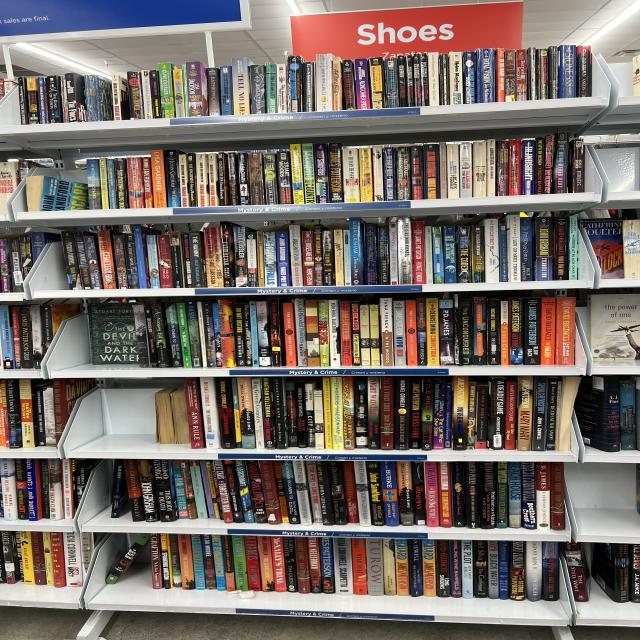book: (161, 65, 235, 117), (301, 461, 360, 524), (46, 454, 93, 521), (21, 381, 43, 521), (0, 305, 39, 369), (591, 543, 629, 603), (560, 539, 595, 604), (0, 381, 33, 447), (187, 459, 222, 521), (223, 227, 259, 286), (592, 544, 628, 602), (152, 150, 187, 207), (351, 378, 378, 448), (475, 384, 504, 448), (306, 378, 332, 449), (188, 460, 219, 519), (150, 458, 178, 523), (121, 458, 147, 522), (164, 232, 192, 288), (430, 226, 457, 284), (183, 378, 205, 449), (59, 230, 85, 290), (170, 302, 193, 369), (259, 461, 283, 525), (200, 377, 221, 449), (444, 227, 471, 283), (215, 378, 236, 449), (137, 459, 160, 523), (394, 462, 417, 526), (236, 377, 256, 449), (222, 459, 244, 524), (291, 460, 313, 525), (462, 461, 483, 529), (312, 378, 332, 449), (327, 461, 349, 525), (217, 299, 237, 368), (488, 378, 507, 450), (213, 459, 234, 524), (234, 460, 255, 524), (555, 298, 575, 365), (184, 301, 204, 368), (533, 217, 554, 280), (247, 461, 268, 524), (13, 307, 34, 369), (270, 377, 288, 449), (53, 180, 90, 215), (185, 61, 208, 117), (365, 462, 385, 526), (517, 376, 534, 451), (205, 304, 225, 367), (380, 461, 399, 527), (325, 142, 345, 203), (231, 302, 249, 367), (165, 303, 183, 368), (329, 377, 345, 450), (531, 377, 547, 450), (63, 532, 84, 587), (152, 304, 170, 368), (316, 462, 334, 526), (63, 74, 87, 122), (452, 377, 468, 449), (419, 378, 435, 450), (97, 229, 116, 289), (349, 538, 369, 595), (258, 535, 278, 592), (0, 458, 18, 521), (292, 539, 313, 593), (523, 299, 540, 365), (201, 302, 218, 368), (517, 216, 534, 282), (274, 151, 295, 204), (479, 463, 496, 528), (317, 539, 337, 594), (394, 377, 409, 450), (423, 463, 440, 527), (304, 299, 320, 367), (314, 54, 333, 111), (243, 535, 262, 592), (304, 539, 324, 593), (521, 462, 537, 529), (549, 463, 565, 530), (540, 298, 556, 365), (411, 462, 428, 525), (483, 219, 500, 282), (306, 461, 323, 524), (142, 305, 159, 368), (251, 378, 266, 449), (255, 301, 271, 367), (292, 382, 308, 448), (109, 157, 129, 209), (451, 462, 467, 527), (476, 49, 495, 103), (231, 535, 249, 592), (188, 231, 206, 288), (298, 383, 314, 447), (544, 377, 558, 450), (552, 133, 569, 193), (342, 147, 360, 203), (317, 230, 335, 286), (366, 539, 384, 595), (569, 216, 585, 279), (410, 377, 424, 449), (62, 534, 81, 587), (205, 153, 224, 206), (293, 299, 308, 366), (506, 214, 521, 281), (458, 298, 473, 365), (172, 460, 189, 519), (542, 542, 559, 601), (30, 531, 48, 586), (204, 228, 221, 286), (111, 460, 128, 518), (110, 71, 130, 120), (261, 378, 275, 448), (282, 302, 297, 367), (439, 300, 454, 365), (210, 534, 227, 591), (270, 536, 287, 593), (526, 541, 542, 601), (47, 460, 63, 520), (558, 45, 576, 98), (380, 298, 394, 366), (465, 381, 479, 449), (381, 377, 394, 450), (437, 463, 452, 526), (424, 463, 439, 526), (300, 144, 316, 203), (313, 144, 329, 203), (407, 538, 423, 597), (398, 217, 412, 284), (285, 380, 299, 447), (327, 299, 341, 366), (196, 301, 210, 368), (353, 58, 371, 110), (126, 157, 144, 209), (156, 234, 173, 289), (381, 538, 397, 596), (435, 540, 451, 598), (431, 382, 445, 448), (536, 463, 550, 529), (193, 153, 210, 207), (408, 145, 425, 199), (368, 58, 386, 109), (472, 541, 488, 598), (262, 152, 279, 205), (248, 152, 265, 205), (290, 144, 305, 204), (201, 534, 217, 590), (335, 229, 351, 285), (50, 532, 66, 588), (519, 139, 535, 195), (288, 56, 304, 112), (509, 541, 524, 600), (504, 381, 517, 449), (472, 142, 488, 197), (307, 539, 323, 594), (350, 218, 363, 285), (554, 217, 568, 279), (9, 307, 23, 369), (381, 147, 397, 201), (496, 462, 509, 528), (508, 462, 521, 528), (510, 299, 523, 365), (363, 223, 377, 284), (170, 68, 187, 118), (487, 300, 500, 365), (370, 146, 385, 202), (126, 71, 143, 120), (86, 158, 102, 210), (14, 460, 28, 519), (37, 460, 51, 519), (221, 536, 236, 591), (301, 231, 316, 286), (358, 147, 373, 202), (263, 232, 278, 287), (249, 65, 266, 113), (395, 538, 409, 596), (376, 227, 390, 285), (471, 225, 485, 283), (395, 146, 410, 200), (412, 222, 425, 284), (427, 299, 439, 366), (24, 77, 41, 124), (484, 139, 498, 196), (422, 540, 436, 597), (569, 140, 584, 193), (426, 53, 441, 106), (270, 300, 282, 366), (318, 300, 330, 366), (459, 142, 473, 198), (395, 539, 409, 595), (394, 301, 406, 366), (241, 302, 253, 367), (231, 378, 242, 448), (340, 302, 352, 366), (350, 302, 362, 366), (576, 46, 591, 97), (341, 59, 356, 110), (276, 232, 290, 286), (425, 145, 439, 199), (446, 144, 460, 198), (542, 135, 555, 193), (416, 298, 427, 366), (369, 304, 381, 366), (359, 304, 371, 366), (526, 48, 540, 101), (246, 230, 259, 287), (236, 153, 250, 205), (449, 52, 463, 104), (35, 76, 50, 124), (508, 140, 521, 195), (406, 301, 417, 366), (149, 534, 162, 589), (19, 236, 36, 278), (503, 50, 517, 101), (498, 541, 510, 600), (212, 303, 223, 367), (394, 56, 408, 106), (301, 62, 315, 112), (147, 235, 160, 288), (227, 152, 240, 205), (141, 70, 155, 119), (148, 69, 162, 118), (461, 541, 473, 598), (496, 140, 508, 196), (449, 541, 461, 597), (333, 230, 345, 286), (514, 50, 527, 101), (265, 63, 278, 114), (141, 157, 154, 208), (498, 222, 509, 282), (452, 293, 461, 365), (488, 541, 499, 599), (207, 67, 220, 116), (533, 137, 544, 194), (41, 306, 54, 354), (276, 63, 288, 113), (332, 56, 343, 110), (389, 219, 398, 285), (629, 544, 639, 603), (500, 300, 509, 365), (250, 302, 259, 367), (0, 239, 11, 292), (437, 143, 447, 198), (438, 54, 449, 104), (425, 226, 434, 284), (18, 77, 29, 124), (496, 48, 505, 101), (0, 74, 18, 100), (113, 246, 120, 274), (369, 336, 374, 338), (249, 501, 250, 506)
